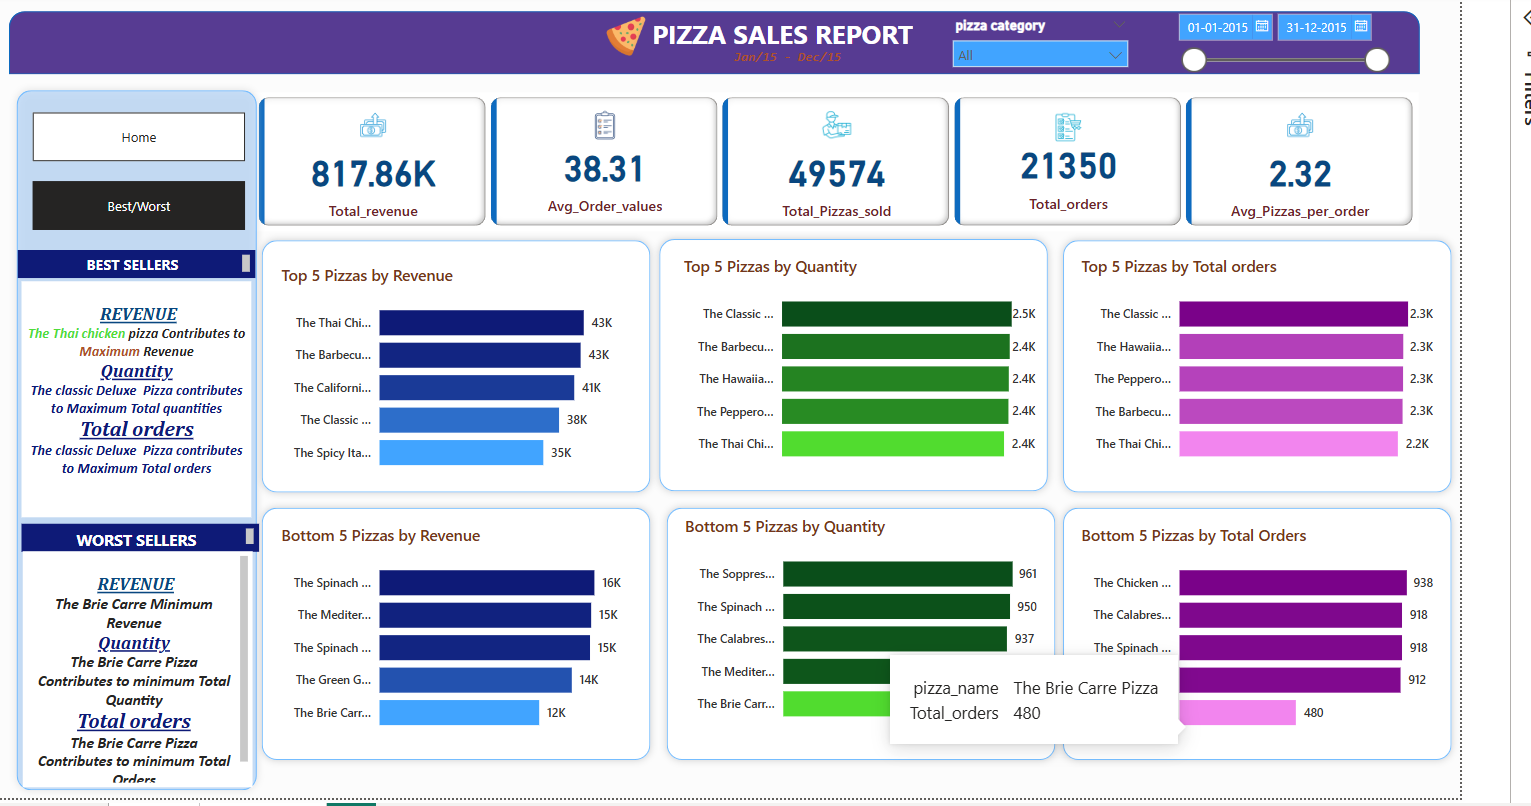

This screenshot's page, from the dashboard's own definition file:
{"tool":"powerbi","page":{"name":"Best/Worst","canvas":[1500,820],"ordinal":1},"visuals":[{"type":"cardVisual","fields":{"Data":["pizza_sales.Total_revenue","pizza_sales.Avg_Order_values","pizza_sales.Total_Pizzas_sold","pizza_sales.Total_orders","pizza_sales.Avg_Pizzas_per_order"]},"box":[262.5,95,1196.2,142.5],"z":0},{"type":"shape","box":[10,11.2,1448.8,65],"z":1000},{"type":"textbox","box":[655,11.2,300,47.5],"z":2000},{"type":"textbox","box":[750,43.8,165,41.2],"z":3000},{"type":"image","box":[617.5,11.2,52.5,51.2],"z":4000},{"type":"shape","box":[262.5,238.5,415,275],"z":5000},{"type":"shape","box":[10,85,262.5,735],"z":6000},{"type":"shape","box":[670,237.5,415,275],"z":7000},{"type":"shape","box":[1085,238.5,415,275],"z":8000},{"type":"shape","box":[262.5,513.8,415,275],"z":9000},{"type":"shape","box":[677.5,513.8,415,275],"z":10000},{"type":"shape","box":[1085,513.8,415,275],"z":11000},{"type":"barChart","title":"Top 5 Pizzas by Revenue","fields":{"Category":["pizza_sales.pizza_name"],"Y":["pizza_sales.Total_revenue"]},"box":[285,271.2,371.2,226.2],"z":12000},{"type":"barChart","title":"Bottom 5  Pizzas by Revenue","fields":{"Category":["pizza_sales.pizza_name"],"Y":["pizza_sales.Total_revenue"]},"box":[285,537.5,371.2,226.2],"z":13000},{"type":"barChart","title":"Top 5 Pizzas by Quantity ","fields":{"Category":["pizza_sales.pizza_name"],"Y":["pizza_sales.Total_Pizzas_sold"]},"box":[698.8,262.5,371.2,226.2],"z":14000},{"type":"barChart","title":"Bottom 5  Pizzas by Quantity ","fields":{"Category":["pizza_sales.pizza_name"],"Y":["pizza_sales.Total_Pizzas_sold"]},"box":[700,528.8,371.2,226.2],"z":15000},{"type":"barChart","title":"Top 5 Pizzas by Total orders ","fields":{"Category":["pizza_sales.pizza_name"],"Y":["pizza_sales.Total_orders"]},"box":[1106.2,261.2,371.2,226.2],"z":16000},{"type":"barChart","title":"  Bottom 5 Pizzas by Total Orders ","fields":{"Category":["pizza_sales.pizza_name"],"Y":["pizza_sales.Total_orders"]},"box":[1106.2,537.5,371.2,226.2],"z":17000},{"type":"slicer","fields":{"Values":["pizza_sales.pizza_category"]},"box":[968.8,12.5,200,63.8],"z":18000},{"type":"slicer","fields":{"Values":["pizza_sales.order_date"]},"box":[1198.8,3.8,237.5,82.5],"z":19000},{"type":"textbox","box":[18.8,256.2,243.8,28.8],"z":20000},{"type":"textbox","box":[22.5,288.8,236.2,242.5],"z":21000},{"type":"textbox","box":[22.5,537.5,243.8,28.8],"z":22000},{"type":"textbox","box":[23.8,566.2,236.2,242.5],"z":23000},{"type":"pageNavigator","box":[34.8,186.6,218.6,50.1],"z":24000},{"type":"pageNavigator","box":[34.8,115.6,218.6,50.1],"z":25000}]}

Visuals, with their boxes on the page's 1500x820 design canvas (x1, y1, x2, y2). These are canvas units, not pixel positions in the 1531x806 screenshot, which may show the page scaled, cropped or inside an application window:
cardVisual - pizza_sales.Total_revenue x pizza_sales.Avg_Order_values: 262, 95, 1459, 238
shape: 10, 11, 1459, 76
textbox: 655, 11, 955, 59
textbox: 750, 44, 915, 85
image: 618, 11, 670, 62
shape: 262, 238, 678, 514
shape: 10, 85, 272, 820
shape: 670, 238, 1085, 512
shape: 1085, 238, 1500, 514
shape: 262, 514, 678, 789
shape: 678, 514, 1092, 789
shape: 1085, 514, 1500, 789
"Top 5 Pizzas by Revenue" barChart: 285, 271, 656, 497
"Bottom 5  Pizzas by Revenue" barChart: 285, 538, 656, 764
"Top 5 Pizzas by Quantity " barChart: 699, 262, 1070, 489
"Bottom 5  Pizzas by Quantity " barChart: 700, 529, 1071, 755
"Top 5 Pizzas by Total orders " barChart: 1106, 261, 1477, 487
"  Bottom 5 Pizzas by Total Orders " barChart: 1106, 538, 1477, 764
slicer - pizza_sales.pizza_category: 969, 12, 1169, 76
slicer - pizza_sales.order_date: 1199, 4, 1436, 86
textbox: 19, 256, 263, 285
textbox: 22, 289, 259, 531
textbox: 22, 538, 266, 566
textbox: 24, 566, 260, 809
pageNavigator: 35, 187, 253, 237
pageNavigator: 35, 116, 253, 166
